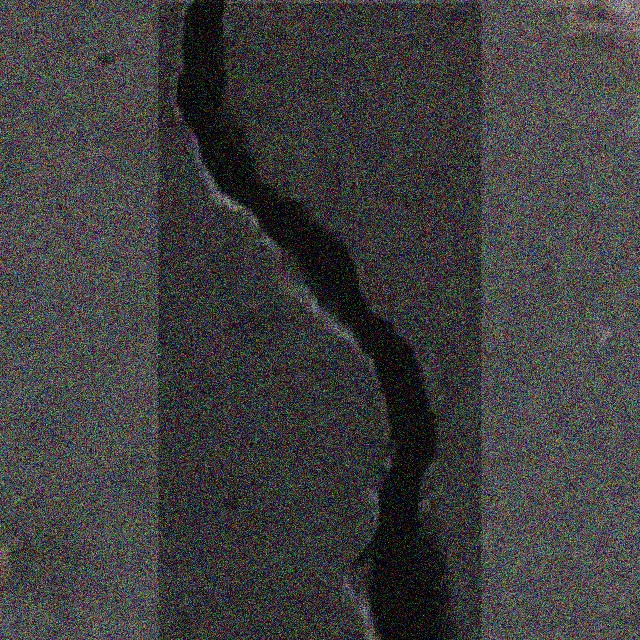SurfaceCrack: (138, 0, 516, 640)
